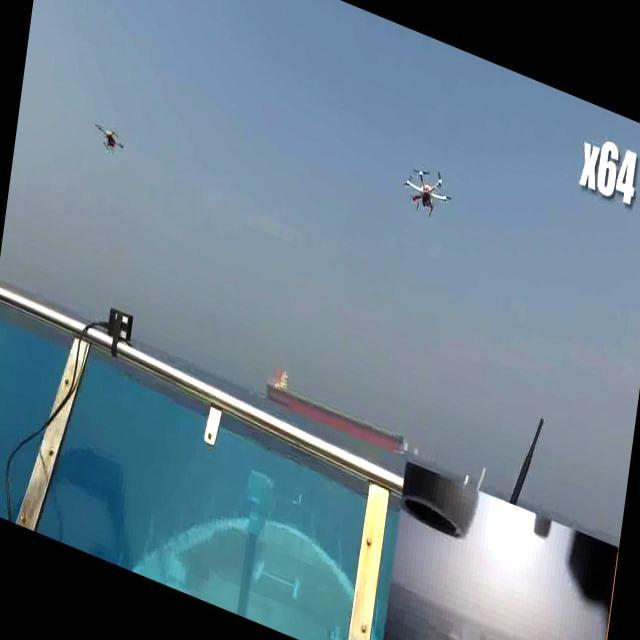drone: (397, 154, 458, 234), (92, 116, 130, 162)
